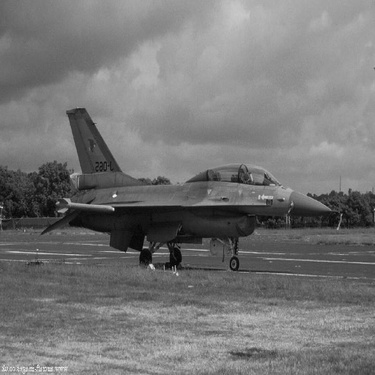airplane: (18, 74, 348, 283)
